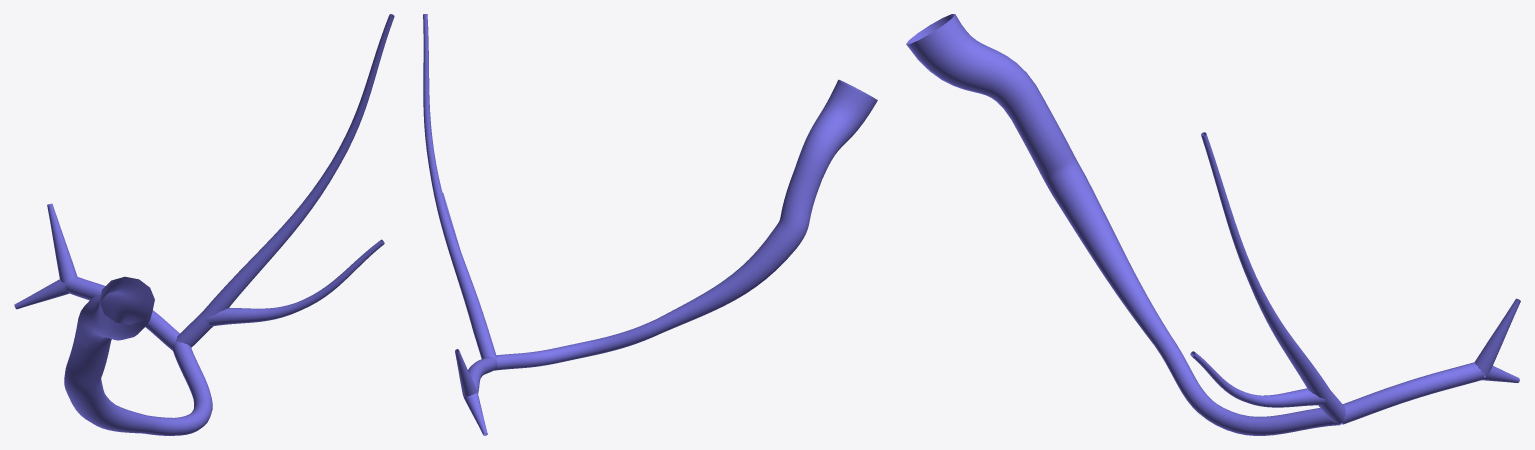
The model's file is Superior_gluteal_vein.l_BezierCurve.207.glb.
The picture shows the model from 3 angles, left to right: view 1: azimuth 30°, elevation 25°; view 2: azimuth 150°, elevation 25°; view 3: azimuth 270°, elevation 25°; orthographic projection. The views are drawn at different scales.
Visible parts, largest first — view 1: Superior_gluteal_vein.l_BezierCurve.207; view 2: Superior_gluteal_vein.l_BezierCurve.207; view 3: Superior_gluteal_vein.l_BezierCurve.207.
Boxes of the visible parts, x1,y1,x2,y2 form: Superior_gluteal_vein.l_BezierCurve.207: [14, 14, 394, 435]; Superior_gluteal_vein.l_BezierCurve.207: [423, 14, 877, 435]; Superior_gluteal_vein.l_BezierCurve.207: [906, 14, 1520, 435].
Size of the model in its own units: 0.0523 by 0.0441 by 0.0637.
